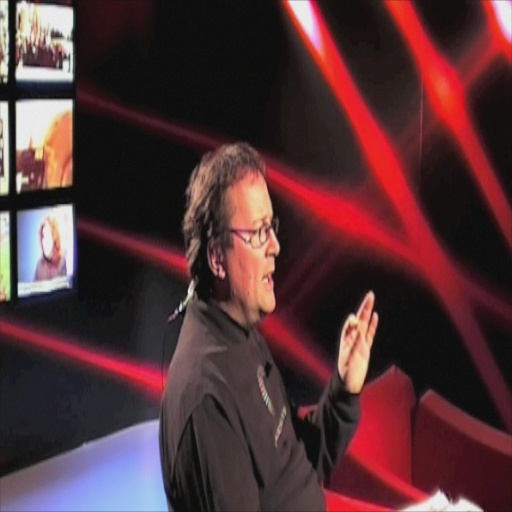hand: (333, 297, 384, 403)
